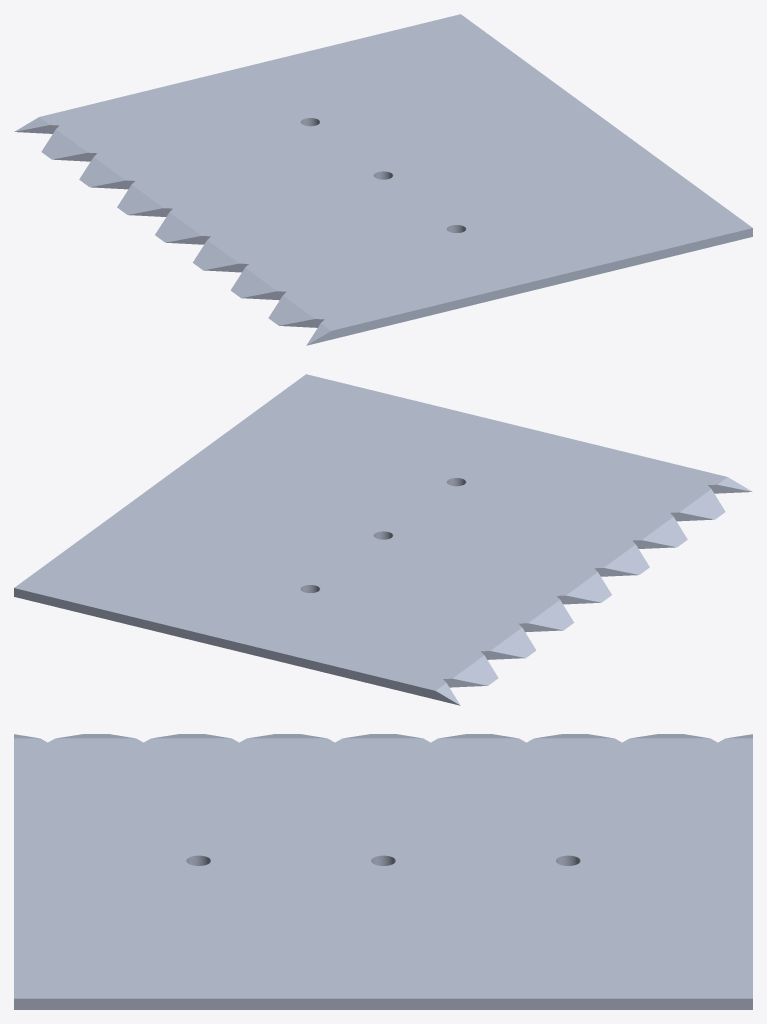
The model's file is DiggingBlade.obj.
3 views of the same model, one above another, from view 1: azimuth 30°, elevation 25°; view 2: azimuth 150°, elevation 25°; view 3: azimuth 270°, elevation 25° (orthographic). The views are drawn at different scales.
Parts seen in each view (by area): view 1: mesh1150, mesh1147, mesh1123, mesh1128, mesh1124, mesh1125, mesh1126, mesh1127, mesh1129; view 2: mesh1150, mesh1151, mesh1124, mesh1125, mesh1127, mesh1129, mesh1123, mesh1128, mesh1126; view 3: mesh1150, mesh1130.
Boxes of the visible parts, x1,y1,x2,y2 form: mesh1150: [39, 14, 752, 330]; mesh1147: [307, 228, 752, 345]; mesh1123: [41, 129, 87, 159]; mesh1128: [268, 296, 314, 325]; mesh1124: [79, 157, 125, 187]; mesh1125: [117, 185, 163, 214]; mesh1126: [155, 212, 200, 242]; mesh1127: [192, 240, 238, 270]; mesh1129: [230, 268, 276, 297]; mesh1150: [14, 374, 727, 690]; mesh1151: [14, 588, 459, 705]; mesh1124: [490, 627, 536, 657]; mesh1125: [528, 600, 574, 630]; mesh1127: [604, 544, 649, 574]; mesh1129: [642, 517, 687, 547]; mesh1123: [453, 655, 498, 685]; mesh1128: [680, 489, 725, 519]; mesh1126: [566, 572, 611, 602]; mesh1150: [14, 738, 752, 998]; mesh1130: [14, 998, 752, 1009].
Size of the model in its own units: 0.2649 by 0.005 by 0.3.
